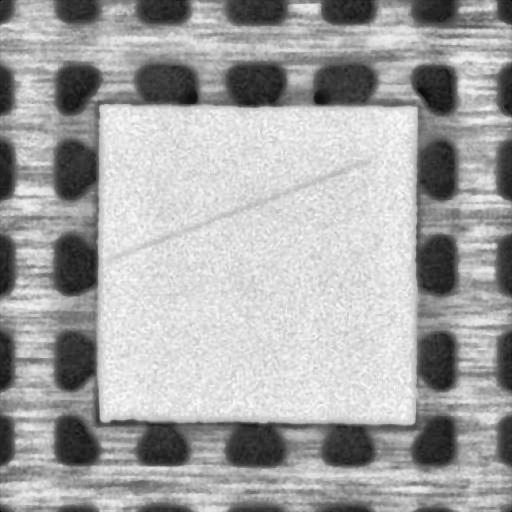DIE_CRACK: (107, 160, 367, 259)
